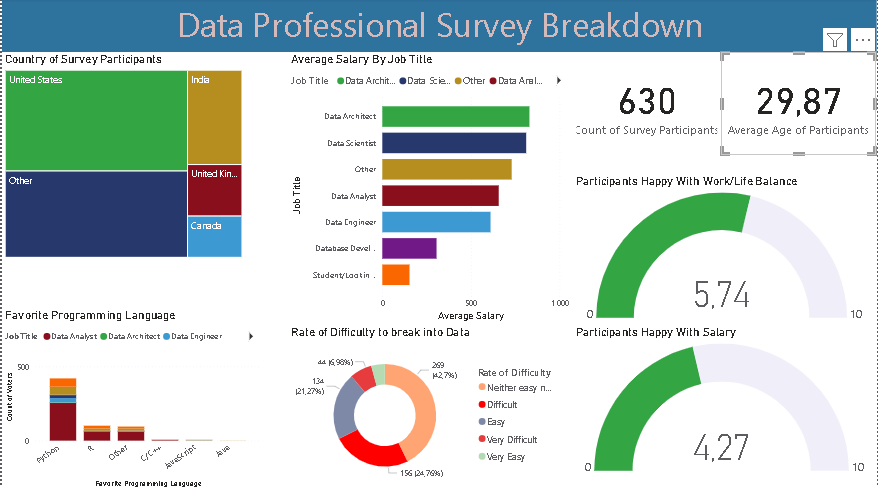

The page's visual inventory and layout, read from the dashboard file:
{"tool":"powerbi","page":{"name":"Page 1","canvas":[1280,720],"ordinal":0},"visuals":[{"type":"textbox","box":[0,311,301,301],"z":0},{"type":"textbox","box":[0,0,1280,79],"z":1000},{"type":"card","fields":{"Values":["Count(Data Professional Survey.Unique ID)"]},"box":[835.6,79.5,216.4,150.7],"z":2000},{"type":"card","fields":{"Values":["Avg(Data Professional Survey.Q10 - Current Age)"]},"box":[1052.1,79.5,227.4,150.7],"z":3000},{"type":"barChart","title":"Average Salary By Job Title","fields":{"Category":["Data Professional Survey.Q1 - Which Title Best Fits your Current Role?.1"],"Y":["Avg(Data Professional Survey.Average Salary)"],"Series":["Data Professional Survey.Q1 - Which Title Best Fits your Current Role?.1"]},"box":[419.2,79.5,416.4,398.6],"z":4000},{"type":"columnChart","title":"Favorite Programming Language","fields":{"Category":["Data Professional Survey.Q5 - Favorite Programming Language.1"],"Y":["CountNonNull(Data Professional Survey.Unique ID)"],"Series":["Data Professional Survey.Q1 - Which Title Best Fits your Current Role?.1"]},"box":[0,453.4,383.6,267.1],"z":5000},{"type":"treemap","title":"Country of Survey Participants","fields":{"Group":["Data Professional Survey.Q11 - Which Country do you live in?.1"],"Values":["CountNonNull(Data Professional Survey.Q11 - Which Country do you live in?.1)"]},"box":[0,79.5,356.2,305.5],"z":6000},{"type":"gauge","title":"Participants Happy With Work/Life Balance","fields":{"Y":["Avg(Data Professional Survey.Q6 - How Happy are you in your Current Position with the following? (Work/Life Balance))"],"MinValue":["Min(Data Professional Survey.Q6 - How Happy are you in your Current Position with the following? (Work/Life Balance))1"],"MaxValue":["Max(Data Professional Survey.Q6 - How Happy are you in your Current Position with the following? (Work/Life Balance))2"]},"box":[835.6,257.5,443.8,220.5],"z":7000},{"type":"gauge","title":"Participants Happy With Salary","fields":{"Y":["Avg(Data Professional Survey.Q6 - How Happy are you in your Current Position with the following? (Salary))"],"MinValue":["Min(Data Professional Survey.Q6 - How Happy are you in your Current Position with the following? (Salary))"],"MaxValue":["Max(Data Professional Survey.Q6 - How Happy are you in your Current Position with the following? (Salary))"]},"box":[835.6,478.1,443.8,223.3],"z":8000},{"type":"donutChart","title":"Rate of Difficulty to break into Data","fields":{"Category":["Data Professional Survey.Q7 - How difficult was it for you to break into Data?"],"Y":["CountNonNull(Data Professional Survey.Q7 - How difficult was it for you to break into Data?)"]},"box":[419.2,478.1,401.4,242.5],"z":9000}]}

Visuals, with their boxes in screenshot pixels (x1, y1, x2, y2), scaled from the page's 1280x720 canvas onto the 878x487 screenshot:
textbox: (x1=0, y1=210, x2=206, y2=414)
textbox: (x1=0, y1=0, x2=877, y2=53)
card - Count(Data Professional Survey.Unique ID): (x1=573, y1=54, x2=722, y2=156)
card - Avg(Data Professional Survey.Q10 - Current Age): (x1=722, y1=54, x2=877, y2=156)
"Average Salary By Job Title" barChart: (x1=288, y1=54, x2=573, y2=323)
"Favorite Programming Language" columnChart: (x1=0, y1=307, x2=263, y2=486)
"Country of Survey Participants" treemap: (x1=0, y1=54, x2=244, y2=260)
"Participants Happy With Work/Life Balance" gauge: (x1=573, y1=174, x2=877, y2=323)
"Participants Happy With Salary" gauge: (x1=573, y1=323, x2=877, y2=474)
"Rate of Difficulty to break into Data" donutChart: (x1=288, y1=323, x2=563, y2=486)
